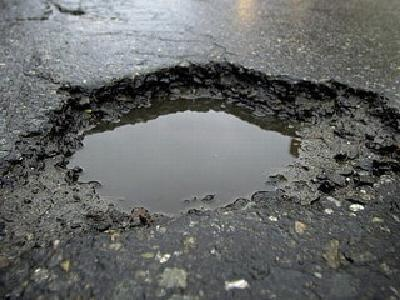pothole: (22, 55, 399, 226)
